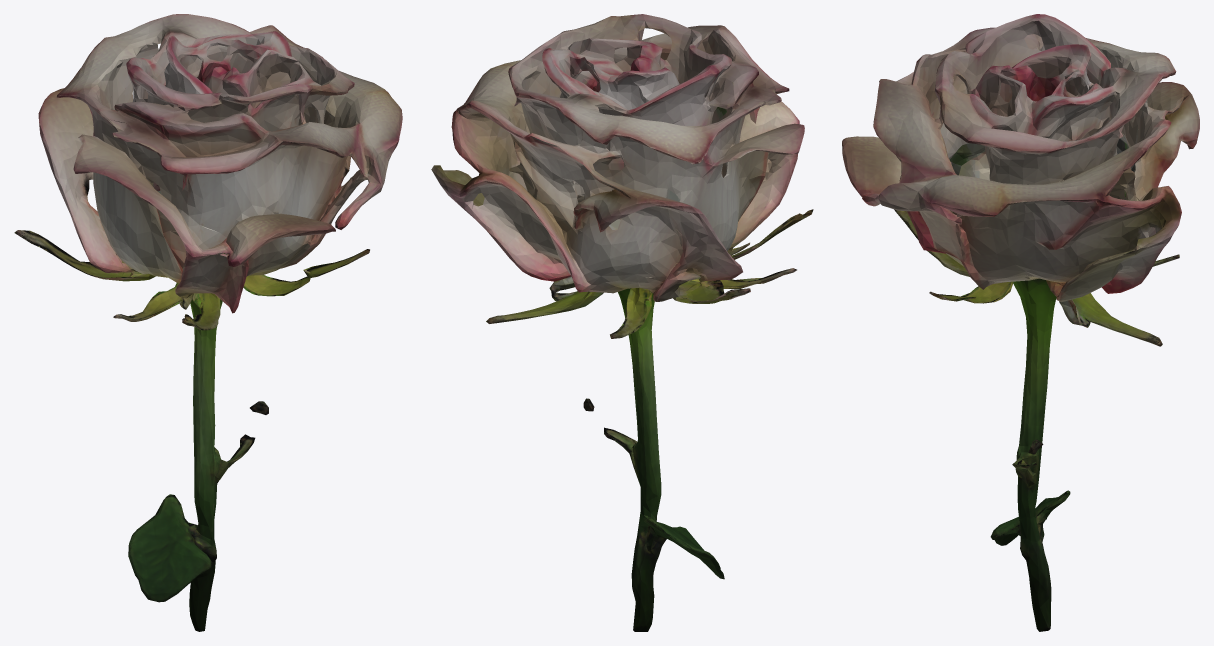
3 renders of one model, left to right at view 1: azimuth 30°, elevation 25°; view 2: azimuth 150°, elevation 25°; view 3: azimuth 270°, elevation 25°, orthographic.
Visible parts, largest first — view 1: world; view 2: world; view 3: world.
Part boxes in pixels (x1,y1,x2,y2): world: [14, 14, 402, 631]; world: [431, 14, 813, 631]; world: [842, 14, 1199, 631].
Size of the model in its own units: 0.5415 by 0.9341 by 0.5189.
1 material, 1 textured.
